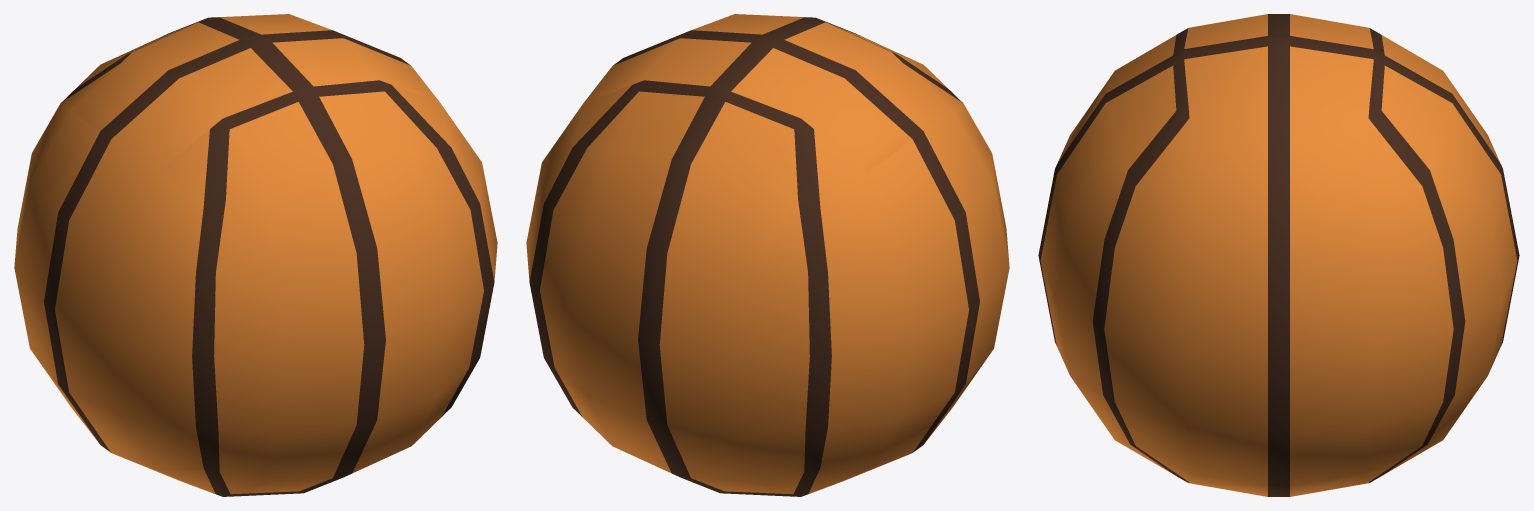
Rendered from Prop_Ball_04.fbx.
The picture shows the model from 3 angles, left to right: view 1: azimuth 30°, elevation 25°; view 2: azimuth 150°, elevation 25°; view 3: azimuth 270°, elevation 25°; orthographic projection.
Visible parts, largest first — view 1: Prop_Ball_04; view 2: Prop_Ball_04; view 3: Prop_Ball_04.
Boxes of the visible parts, <box> form: Prop_Ball_04: <box>14,14,497,496</box>; Prop_Ball_04: <box>526,14,1009,496</box>; Prop_Ball_04: <box>1038,14,1519,496</box>.
Size of the model in its own units: 43.78 by 43.78 by 44.13.
